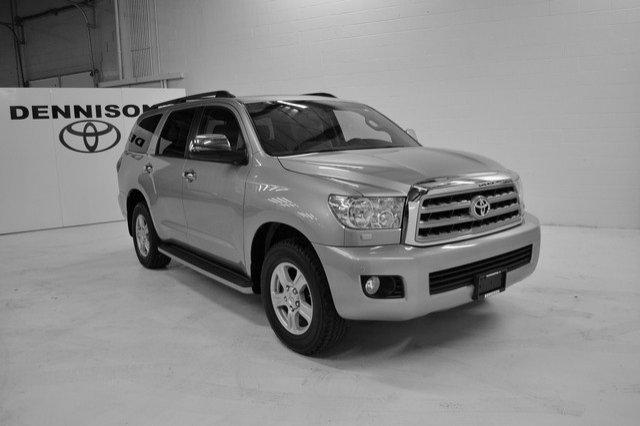car: (117, 90, 545, 362)
